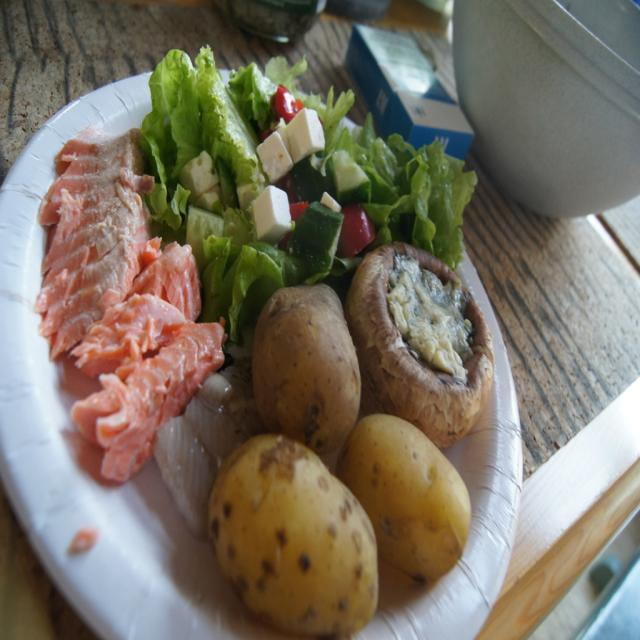Potato: (209, 430, 379, 639), (346, 413, 470, 580), (254, 286, 364, 458)
